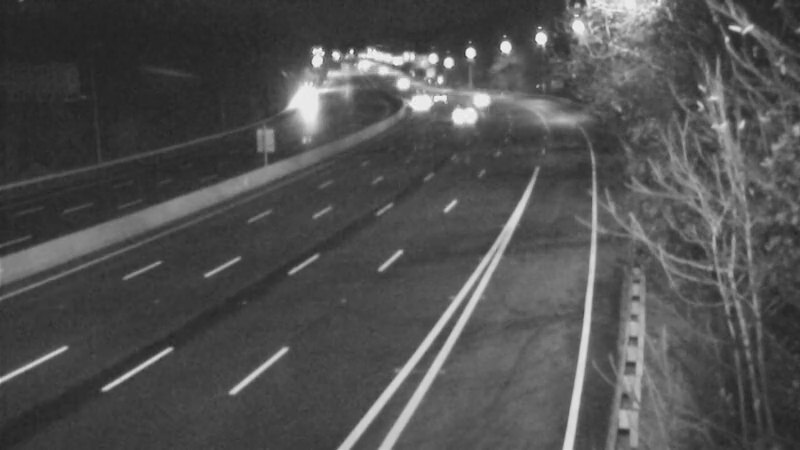vehicle: (377, 59, 427, 109), (455, 73, 505, 123), (417, 73, 467, 123), (388, 78, 438, 128), (433, 86, 483, 136)
